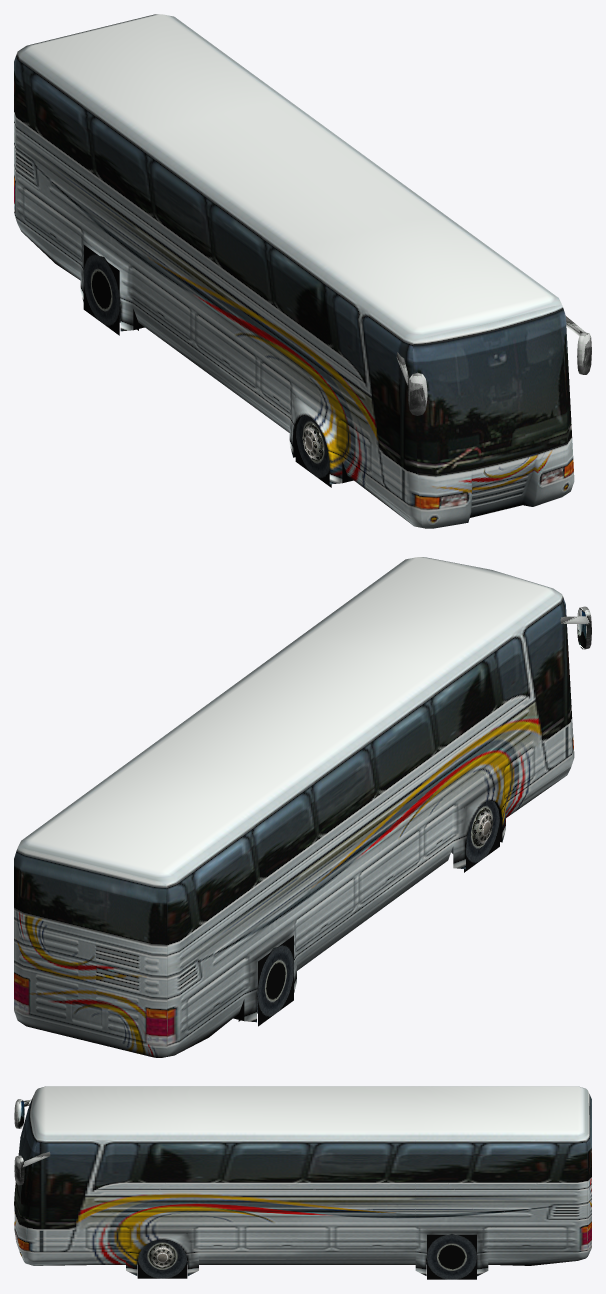
The model's file is 81_bus.glb.
3 renders of one model, top to bottom at view 1: azimuth 30°, elevation 25°; view 2: azimuth 150°, elevation 25°; view 3: azimuth 270°, elevation 25°, orthographic. The views are drawn at different scales.
Parts seen in each view (by area): view 1: body, wheel_B_R, wheel_F_R; view 2: body, wheel_B_R, wheel_F_R; view 3: body, wheel_B_L, wheel_F_L.
Boxes of the visible parts, bbox=[...] form: body: bbox=[14, 14, 591, 528]; wheel_B_R: bbox=[83, 244, 138, 335]; wheel_F_R: bbox=[295, 415, 331, 487]; body: bbox=[14, 557, 591, 1057]; wheel_B_R: bbox=[238, 935, 293, 1026]; wheel_F_R: bbox=[451, 781, 499, 872]; body: bbox=[14, 1086, 591, 1276]; wheel_B_L: bbox=[427, 1234, 476, 1279]; wheel_F_L: bbox=[137, 1239, 187, 1278].
Bounding box in the file's own units: 3.16 × 3.35 × 12.38.
Materials: 13 (11 with a texture image).
